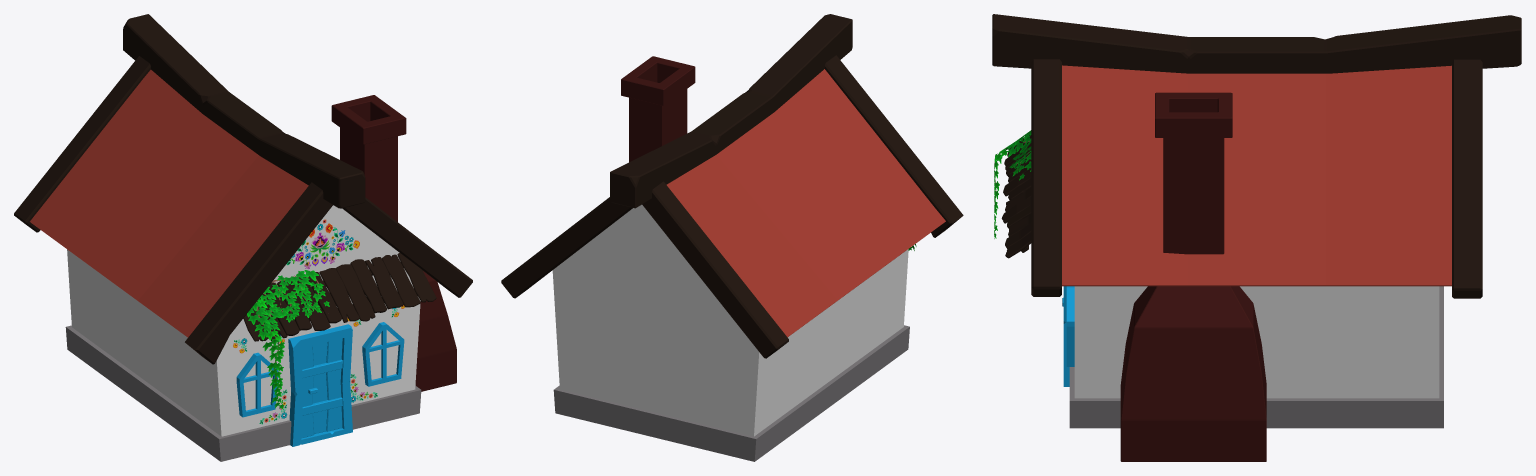
Rendered from House_2.fbx.
The picture shows the model from 3 angles, left to right: view 1: azimuth 30°, elevation 25°; view 2: azimuth 150°, elevation 25°; view 3: azimuth 270°, elevation 25°; orthographic projection. The views are drawn at different scales.
Parts seen in each view (by area): view 1: Cube; view 2: Cube; view 3: Cube.
Part boxes in pixels (x1,y1,x2,y2): Cube: [14, 14, 472, 461]; Cube: [501, 14, 963, 461]; Cube: [992, 14, 1521, 461].
Bounding box in the file's own units: 604 × 553 × 763.
